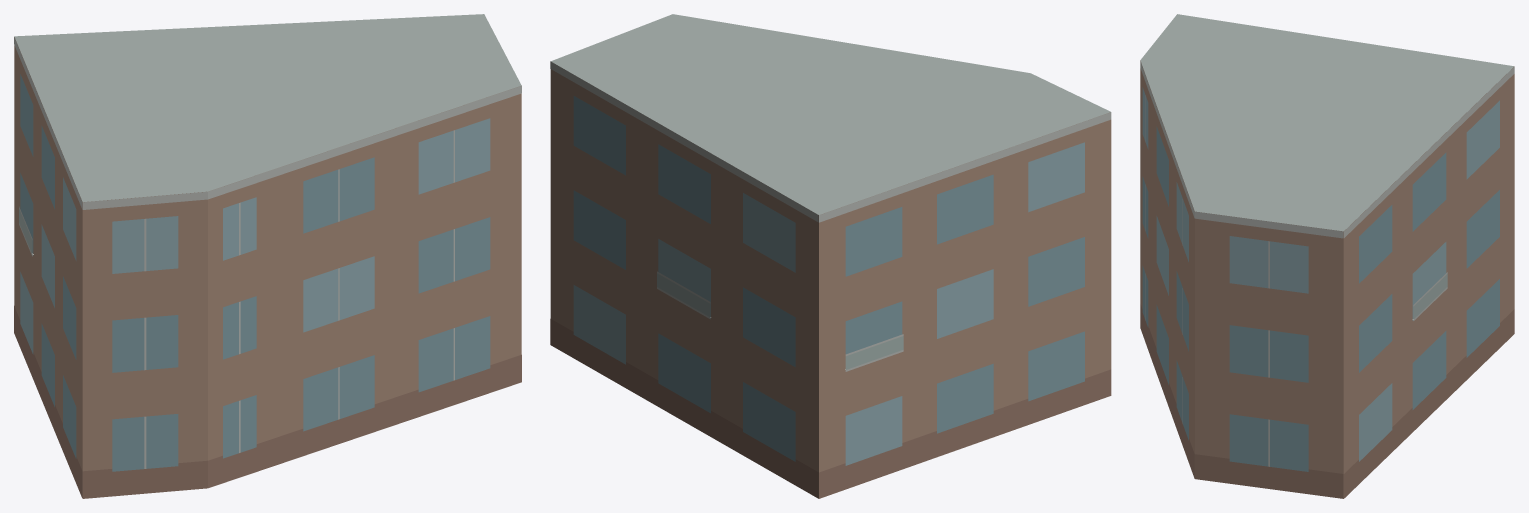
The model's file is survey-upis-32480543.glb.
3 renders of one model, left to right at view 1: azimuth 30°, elevation 25°; view 2: azimuth 150°, elevation 25°; view 3: azimuth 270°, elevation 25°, orthographic. The views are drawn at different scales.
Visible parts, largest first — view 1: survey-upis-32480543.tmp; view 2: survey-upis-32480543.tmp; view 3: survey-upis-32480543.tmp.
Part boxes in pixels (x1,y1,x2,y2): survey-upis-32480543.tmp: [14, 14, 521, 498]; survey-upis-32480543.tmp: [550, 14, 1111, 498]; survey-upis-32480543.tmp: [1140, 14, 1514, 498].
Bounding box in the file's own units: 15.95 × 9.15 × 11.61.
